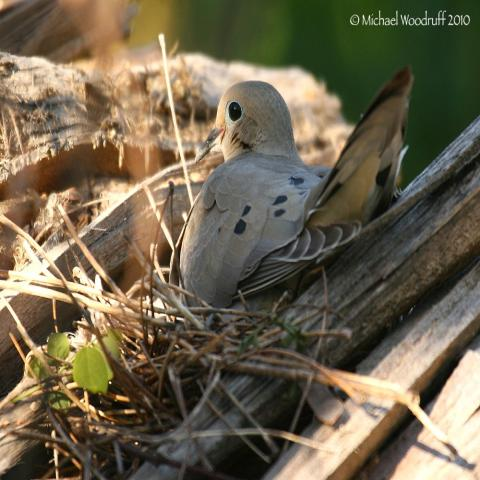bird: (171, 65, 414, 313)
